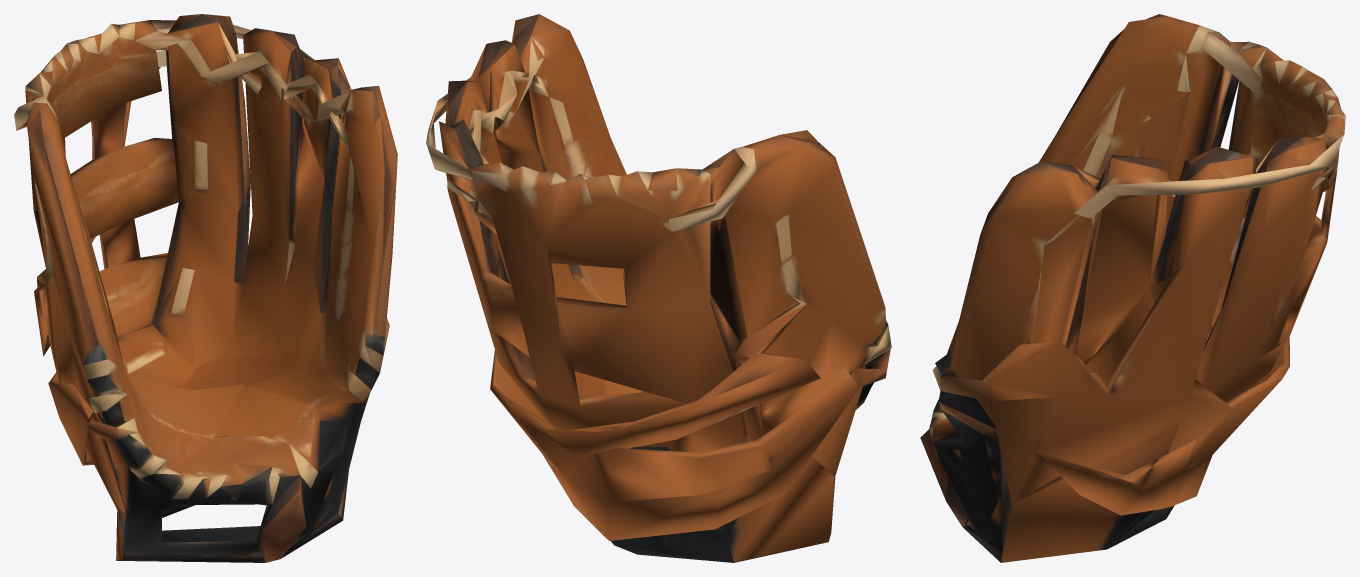
File: RegularMit.fbx
3 views of the same model, side by side, from view 1: azimuth 30°, elevation 25°; view 2: azimuth 150°, elevation 25°; view 3: azimuth 270°, elevation 25° (orthographic). The views are drawn at different scales.
Visible parts, largest first — view 1: node_0; view 2: node_0; view 3: node_0.
Boxes of the visible parts, x1,y1,x2,y2 form: node_0: (14,14,397,562); node_0: (426,14,891,562); node_0: (920,14,1345,562).
Bounding box in the file's own units: 73.08 × 92.17 × 80.8.
1 material, 1 textured.
